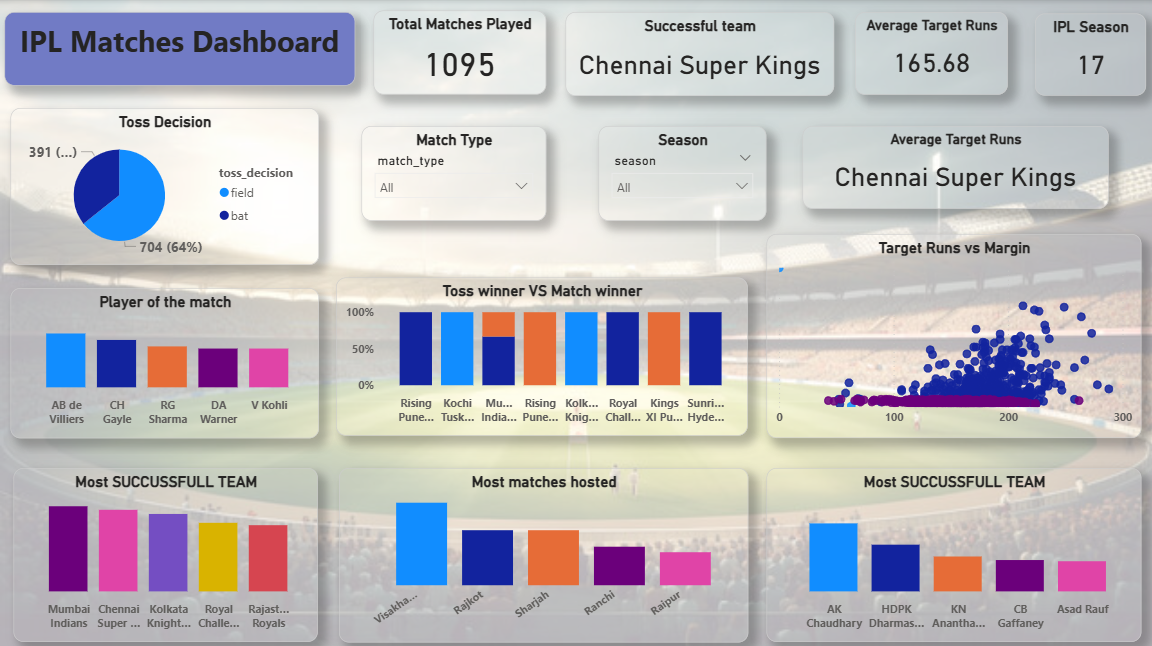

Layout of this report page (visuals, bound fields, positions):
{"tool":"powerbi","page":{"name":"Page 1","canvas":[1280,720],"ordinal":0},"visuals":[{"type":"pieChart","title":" Toss Decision","fields":{"Category":["matches.toss_decision"],"Y":["matches.match_type"]},"box":[11.1,119.3,340.4,173.4],"z":0},{"type":"textbox","box":[4.7,12.5,387.6,81.3],"z":1000},{"type":"hundredPercentStackedColumnChart","title":"Toss winner VS Match winner","fields":{"Category":["matches.toss_winner"],"Series":["matches.winner"],"Y":["matches.toss_winner"]},"box":[370.6,307,454.9,175],"z":2000},{"type":"columnChart","title":"Most SUCCUSSFULL TEAM","fields":{"Category":["matches.winner"],"Y":["matches.winner"],"Series":["matches.winner"]},"box":[15.6,517.3,336,192.2],"z":3000},{"type":"columnChart","title":"Player of the match","fields":{"Category":["matches.player_of_match"],"Y":["matches.player_of_match"],"Series":["matches.player_of_match"]},"box":[10.9,317.3,340.7,165.7],"z":4000},{"type":"scatterChart","title":"Target Runs vs Margin","fields":{"X":["matches.target_runs"],"Y":["matches.result_margin"],"Series":["matches.result"]},"box":[847.1,257.9,414.2,225.1],"z":5000},{"type":"columnChart","title":"Most matches hosted","fields":{"Category":["matches.city"],"Y":["matches.city"],"Series":["matches.city"]},"box":[373.8,516.9,451.7,192.5],"z":6000},{"type":"columnChart","title":"Most SUCCUSSFULL TEAM","fields":{"Y":["matches.umpire1"],"Category":["matches.umpire1"],"Series":["matches.umpire1"]},"box":[847.1,517.3,414.2,192.2],"z":8000},{"type":"slicer","title":"Match Type","fields":{"Values":["matches.match_type"]},"box":[399.2,139.1,203.7,104.4],"z":9000},{"type":"slicer","title":"Season","fields":{"Values":["matches.season"]},"box":[660.9,139.1,185.5,104.4],"z":10000},{"type":"card","title":"Total Matches Played","fields":{"Values":["matches.id"]},"box":[412.5,11.6,190.5,92.8],"z":11000},{"type":"card","title":"Successful team","fields":{"Values":["matches.winner"]},"box":[624.5,13.3,296.5,92.8],"z":12000},{"type":"card","title":"IPL Season","fields":{"Values":["matches.season"]},"box":[1143.6,14.3,122.5,90.7],"z":13000},{"type":"card","title":"Average Target Runs","fields":{"Values":["matches.target_runs"]},"box":[944.2,13.3,169,91.1],"z":14000},{"type":"card","title":"Average Target Runs","fields":{"Values":["matches.toss_winner"]},"box":[886.2,139.1,337.9,91.1],"z":15000}]}

Visuals, with their boxes in screenshot pixels (x1, y1, x2, y2), scaled from the page's 1280x720 canvas onto the 1152x646 screenshot:
" Toss Decision" pieChart: Rect(10, 107, 316, 263)
textbox: Rect(4, 11, 353, 84)
"Toss winner VS Match winner" hundredPercentStackedColumnChart: Rect(334, 275, 743, 432)
"Most SUCCUSSFULL TEAM" columnChart: Rect(14, 464, 316, 637)
"Player of the match" columnChart: Rect(10, 285, 316, 433)
"Target Runs vs Margin" scatterChart: Rect(762, 231, 1135, 433)
"Most matches hosted" columnChart: Rect(336, 464, 743, 636)
"Most SUCCUSSFULL TEAM" columnChart: Rect(762, 464, 1135, 637)
"Match Type" slicer: Rect(359, 125, 543, 218)
"Season" slicer: Rect(595, 125, 762, 218)
"Total Matches Played" card: Rect(371, 10, 543, 94)
"Successful team" card: Rect(562, 12, 829, 95)
"IPL Season" card: Rect(1029, 13, 1139, 94)
"Average Target Runs" card: Rect(850, 12, 1002, 94)
"Average Target Runs" card: Rect(798, 125, 1102, 207)
